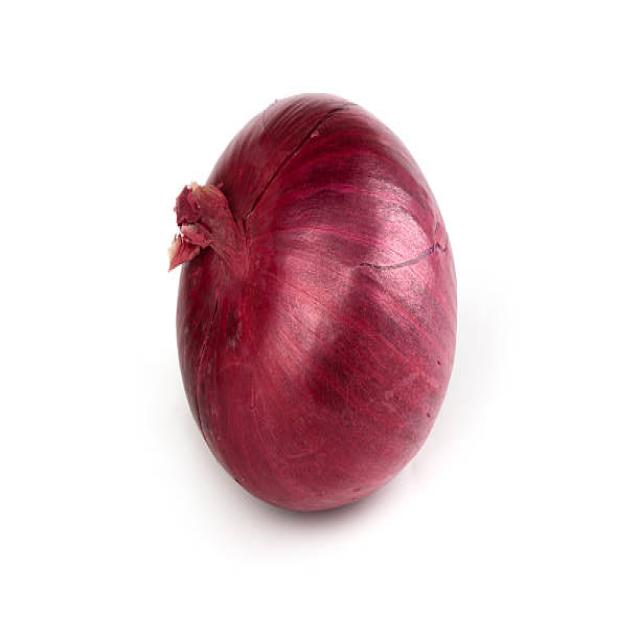onion: (174, 87, 463, 520)
